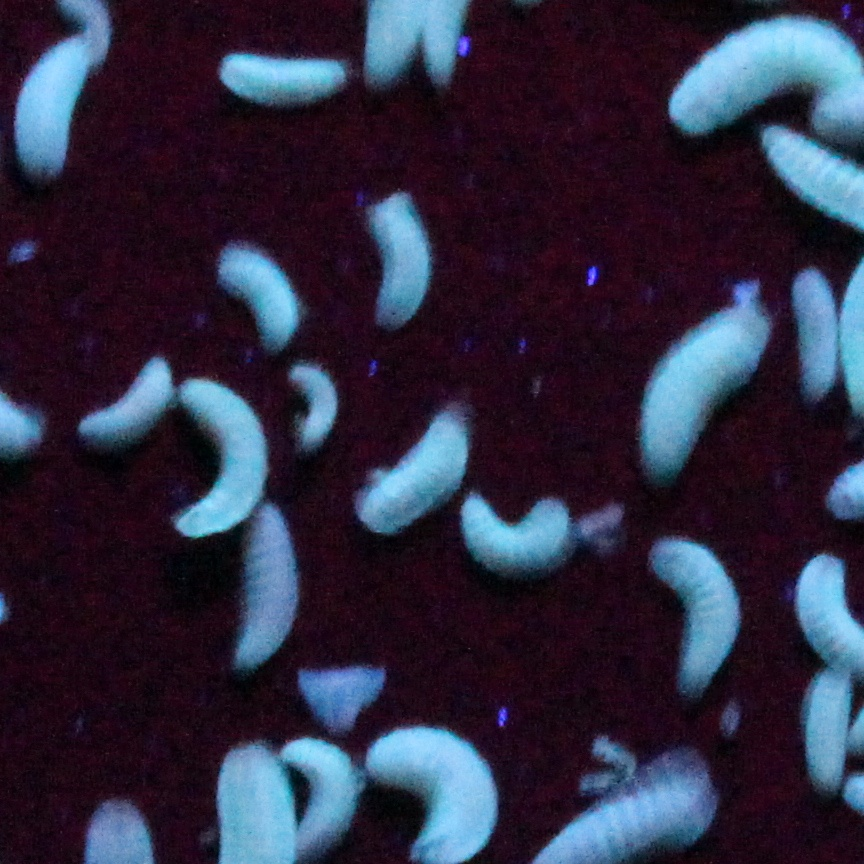larve: (649, 308, 767, 478), (174, 380, 265, 535), (653, 537, 742, 695), (355, 410, 472, 526), (213, 249, 307, 347), (242, 495, 294, 666), (22, 39, 86, 174), (465, 495, 572, 570), (788, 264, 842, 401), (82, 360, 174, 439), (376, 193, 430, 326), (222, 51, 347, 101), (801, 670, 853, 789), (290, 362, 336, 449)
